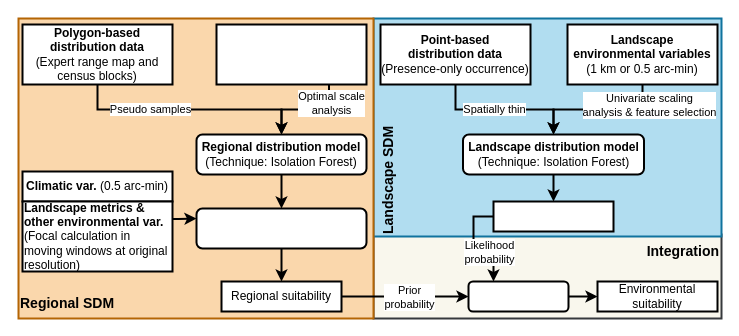
Some shapes in this 739 by 336 pixel diagram are drawn without their labels. The centre of each missing label's shape, as x and y in pixels:
"Bayes fusion" belongs at (x=518, y=296).
"Landscape suitability" belongs at (x=553, y=216).
"Projection at landscape scale" belongs at (x=281, y=228).
"Regional environmental variables (10, 5, 2.5 arc-min)" belongs at (x=291, y=54).
